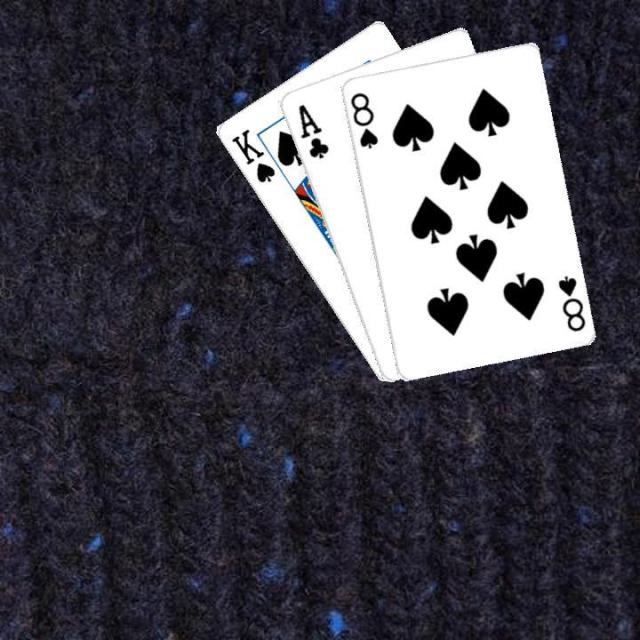8S: (346, 88, 380, 150), (553, 271, 587, 333)
AC: (293, 100, 331, 160)
KS: (227, 124, 277, 185)
